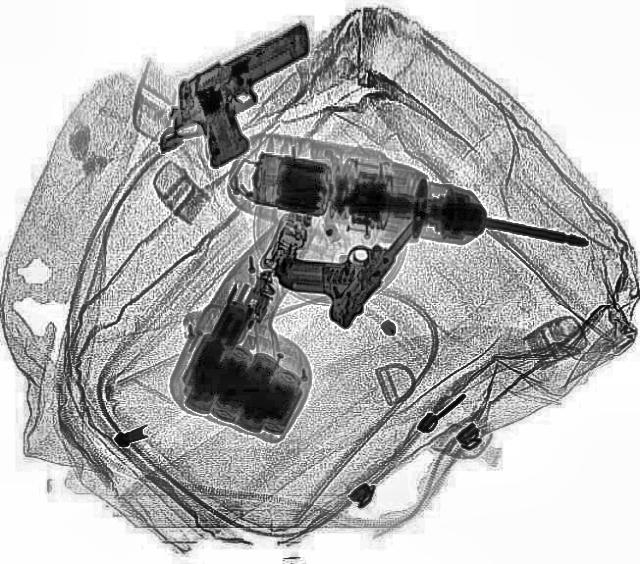Gun: (138, 19, 358, 176), (258, 172, 430, 330)
